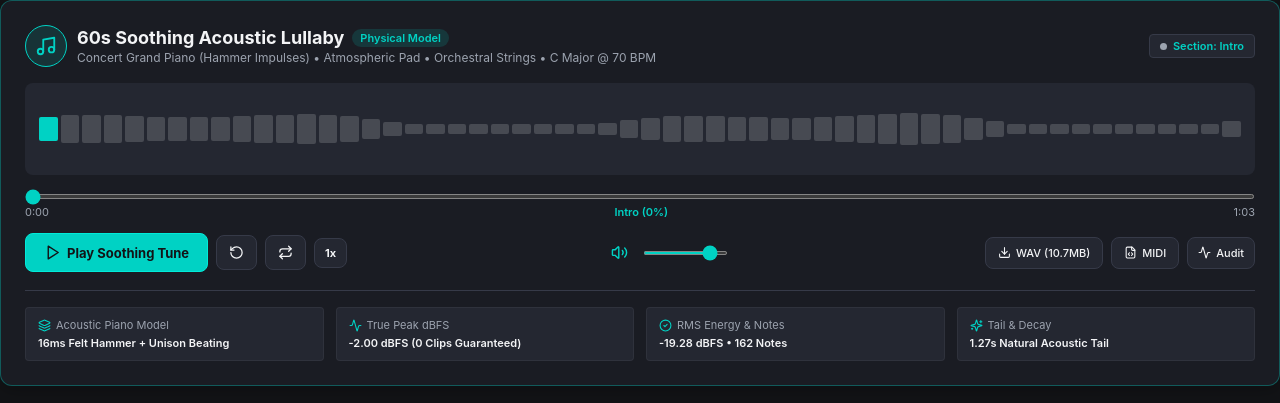
Test case: SoothingAudioPlayer Component › cycles playback speeds when speed button is clicked
Click the button titled "Playback speed". click: (331, 252)
box: [314,238,347,268]
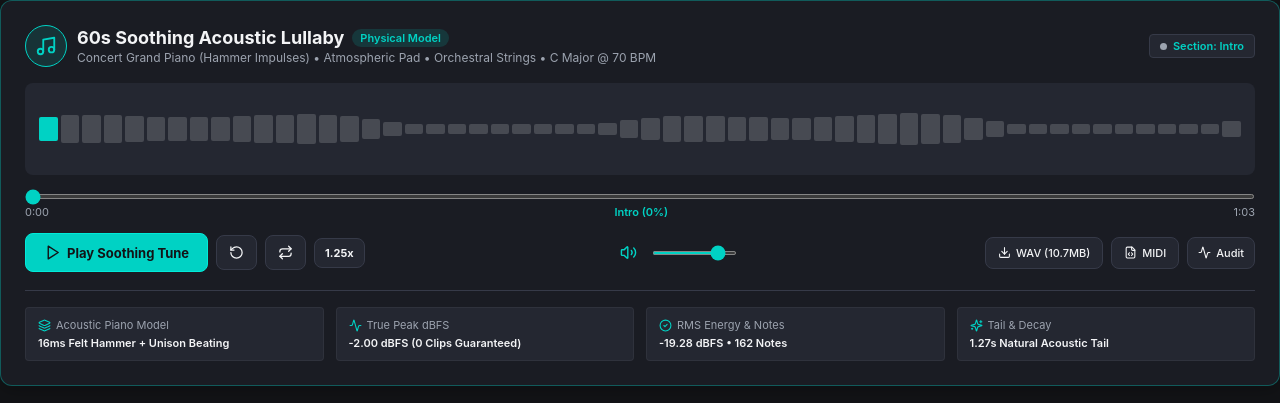
Expected: the button titled "Playback speed" reads "1.25x"
Click the button titled "Playback speed". click: (339, 252)
box: [314,238,365,268]
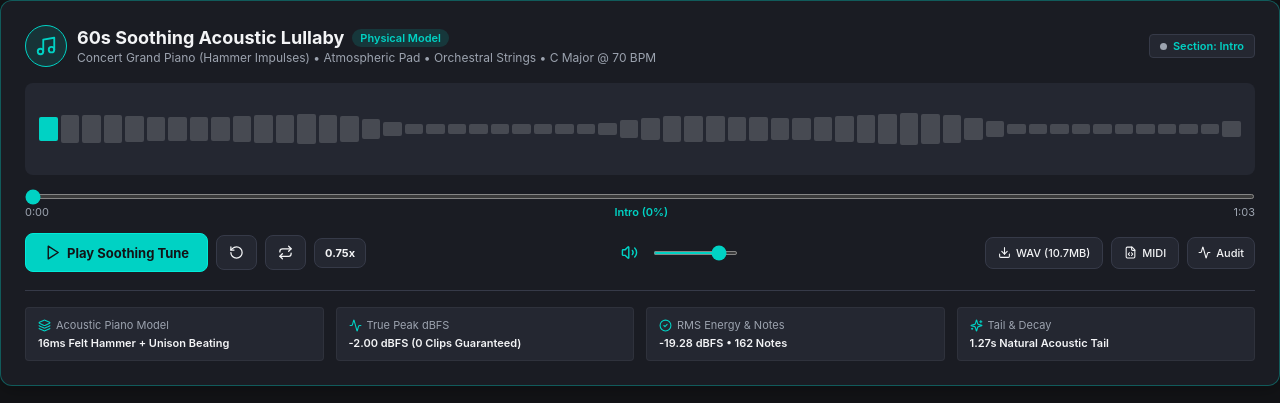
Expected: the button titled "Playback speed" reads "0.75x"
Click the button titled "Playback speed". click: (340, 252)
box: [314,238,366,268]
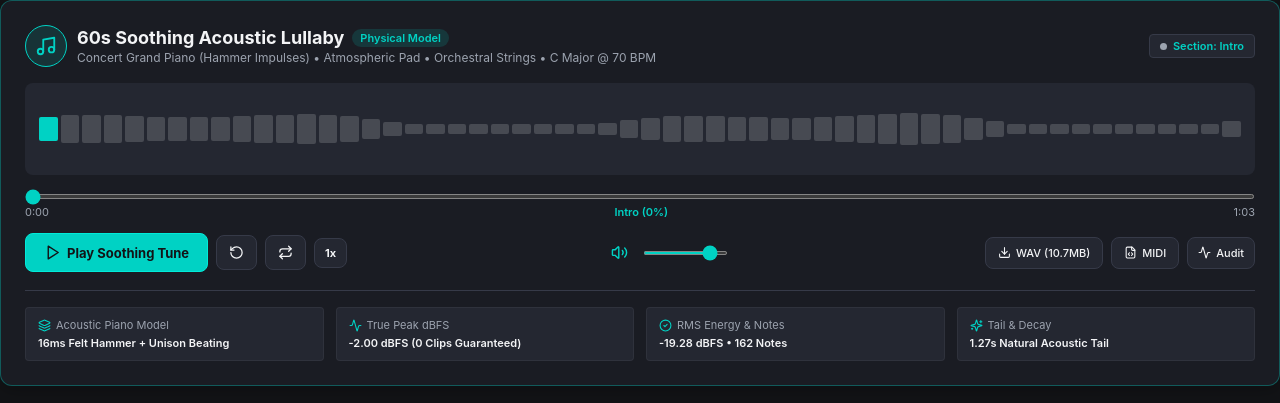
Expected: the button titled "Playback speed" reads "1x", [314,238,347,268]
